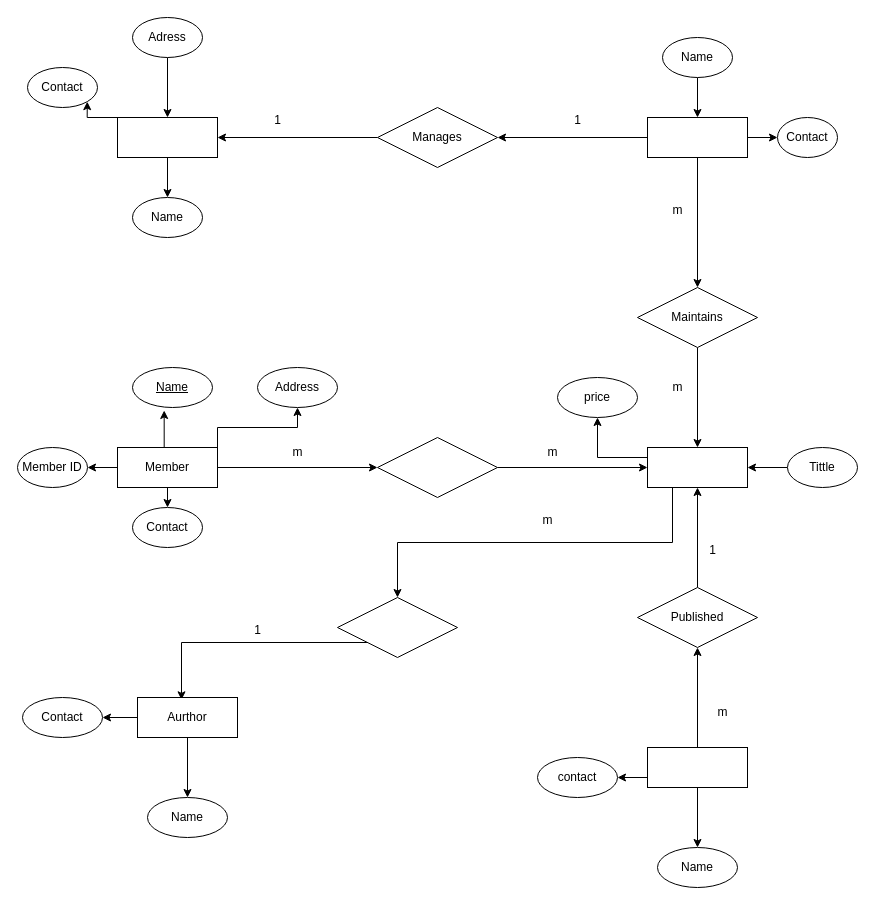
Some shapes in this 875 by 905 pixel diagram are drawn without their labels. Each missing label, with the centre of its shape:
Book: point 697,467
Libarian: point 697,137
Library: point 167,137
Publisher: point 697,767
Request: point 437,467
Written: point 397,627
